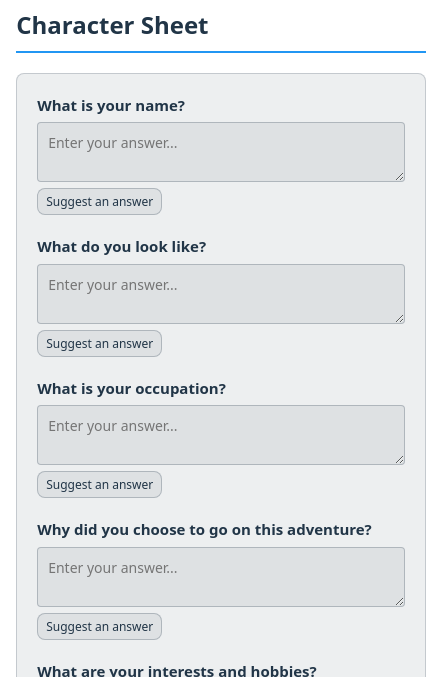
MyCharacterSheet AI answer suggestions › lets a follow-up refine a suggestion before accepting it
Click the button "Suggest an answer" below "What is your name?": click(100, 202) [37,188,162,215]
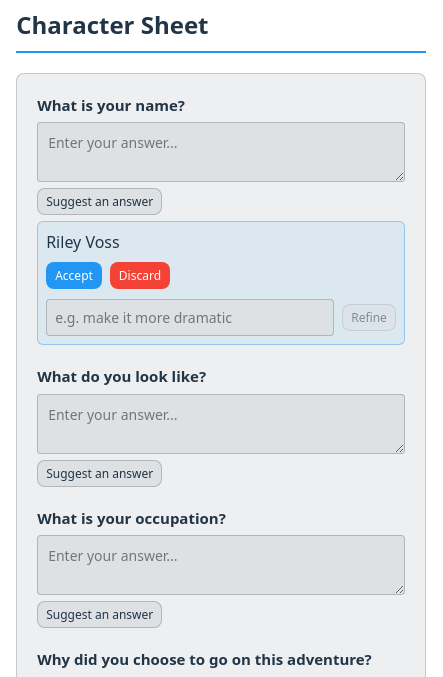
Expected: the text "Riley Voss" is shown, [46,231,120,253]
In the field with placeholder "e.g. make it more dramatic": (190, 318) [46,299,334,336], type "add a nickname"
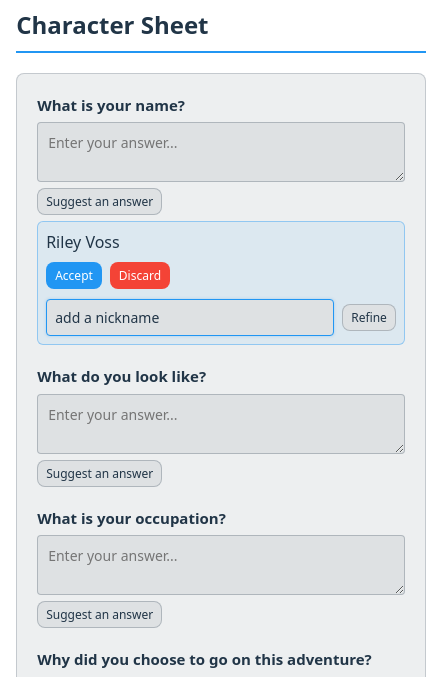
Click the button "Refine": click(369, 318) [342,304,396,331]
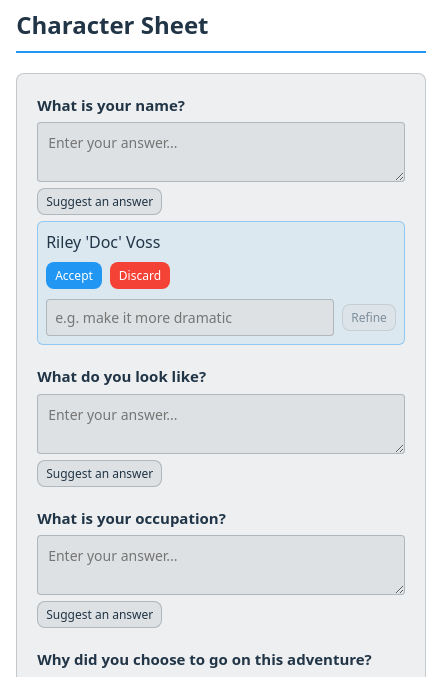
Expected: the text "Riley 'Doc' Voss" is shown, [46,231,160,253]
Click the button "Accept": click(74, 276) [46,262,102,289]
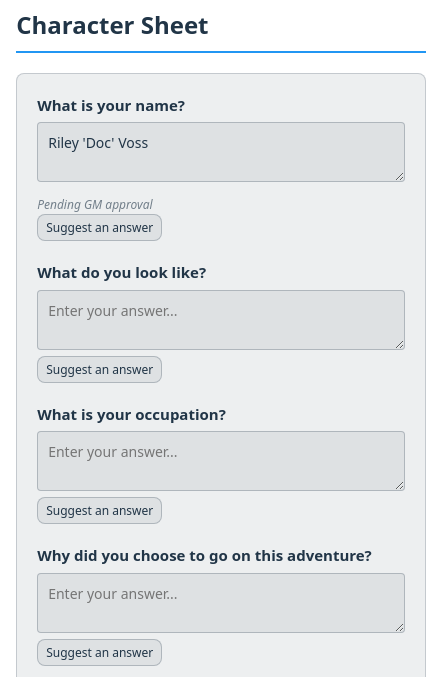
Expected: the text box with placeholder "Enter your answer..." holds "Riley 'Doc' Voss", [37,122,405,182]
